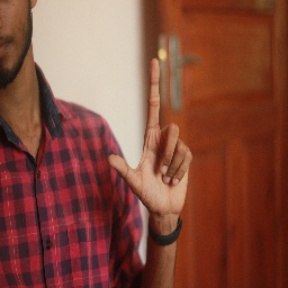L: (107, 58, 193, 208)
